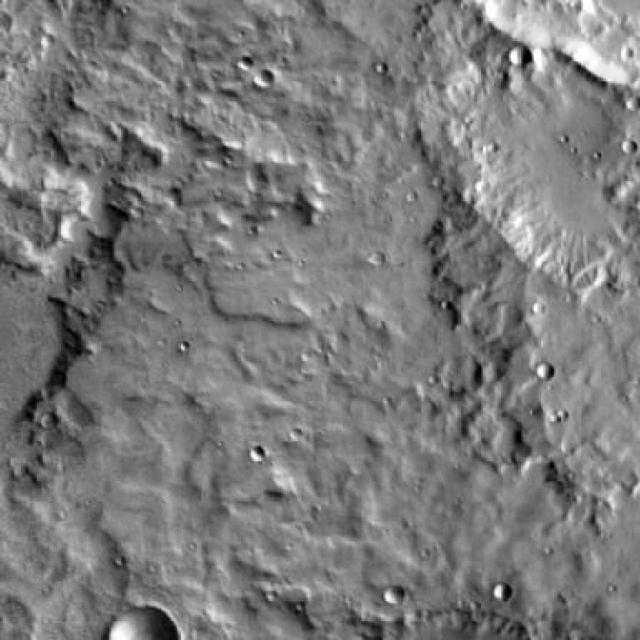crater: (417, 0, 640, 286), (106, 607, 181, 640), (503, 56, 525, 75), (538, 366, 557, 382), (383, 588, 402, 604), (257, 72, 275, 88)
